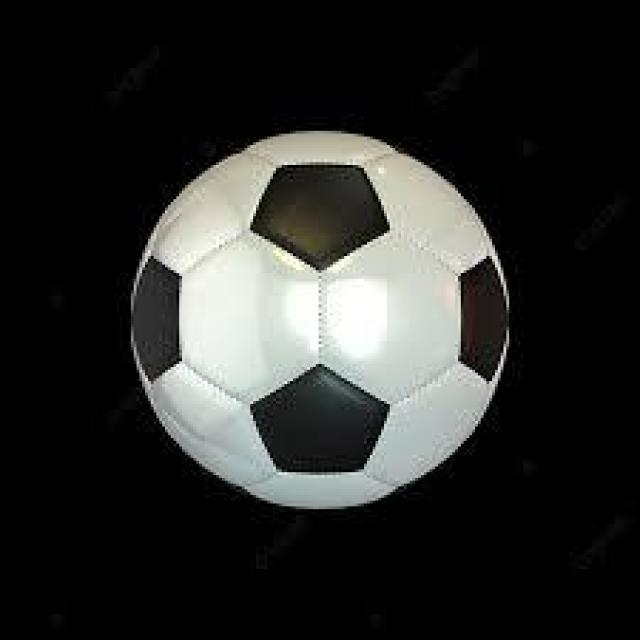Soccer Ball: (134, 131, 509, 506)
